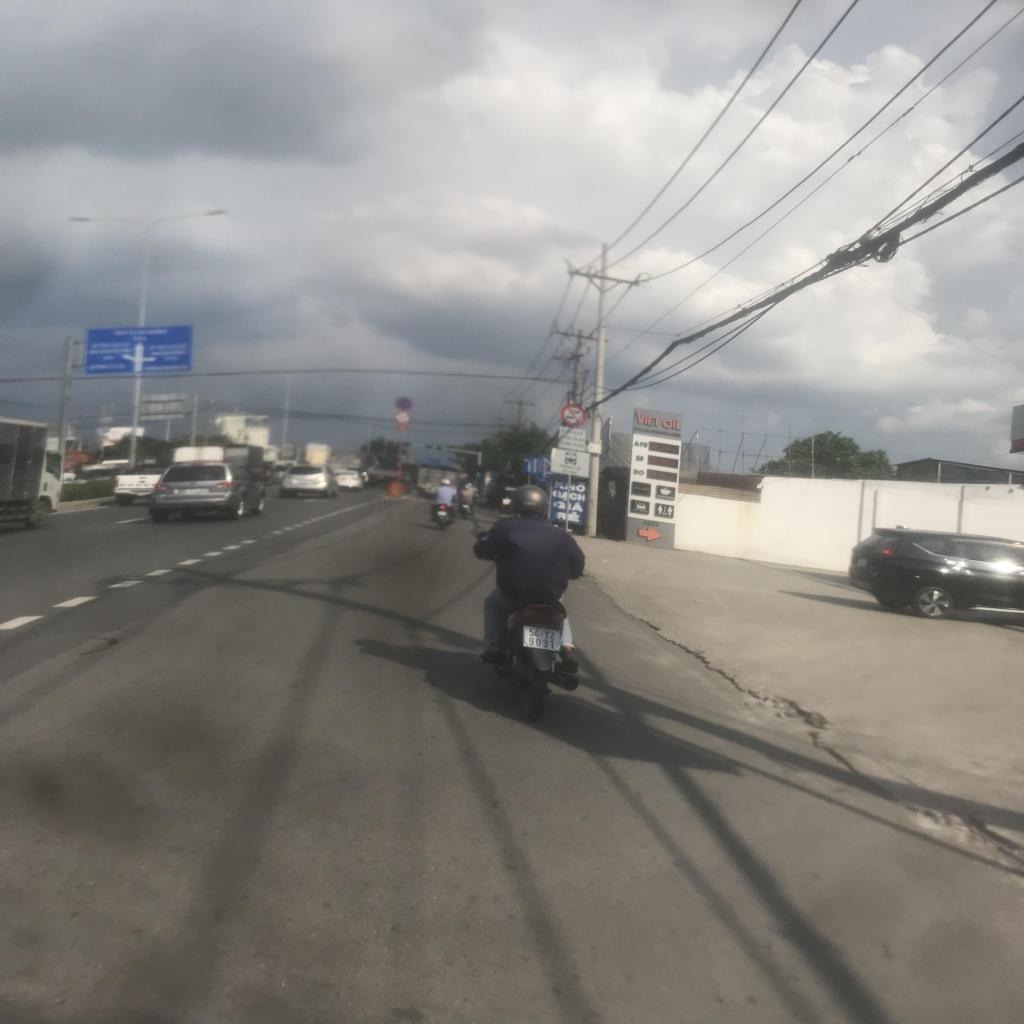cam_dung_xe_va_do_xe: (396, 397, 413, 411)
cam_o_to_tai_va_xe_khach: (561, 404, 586, 427)
cam_xe_2_banh_va_xe_3_banh_co_dong_co: (394, 412, 411, 424)
khac: (86, 325, 192, 373), (550, 448, 590, 478), (557, 426, 587, 450)
